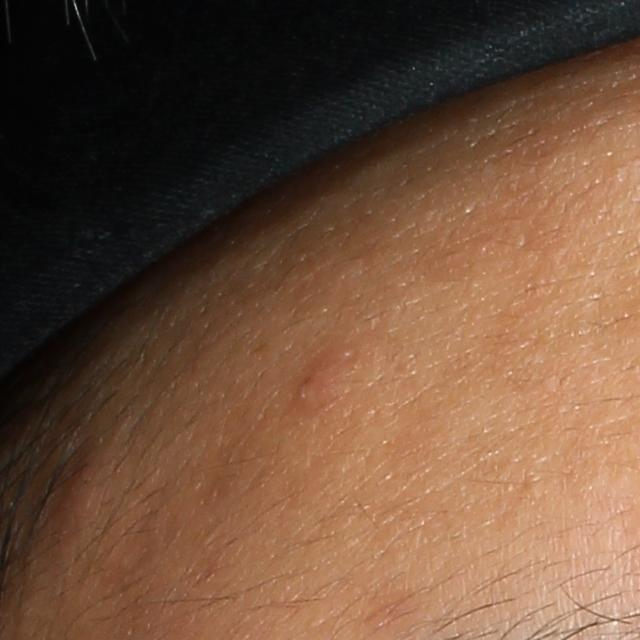papule: (51, 451, 112, 537)
